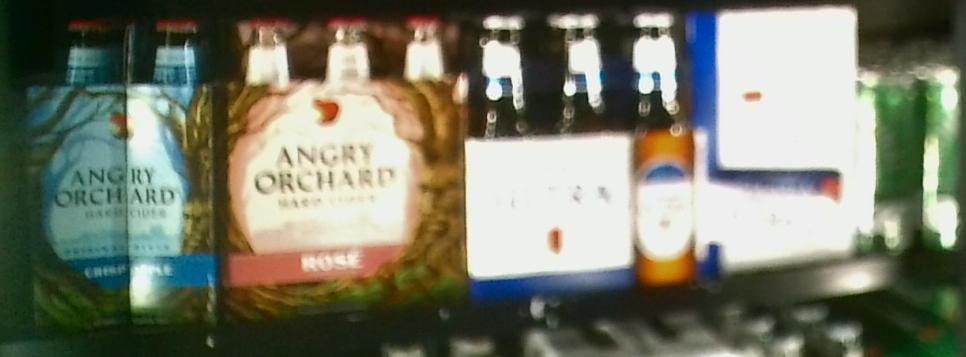bottle: (216, 16, 465, 316), (468, 13, 697, 286), (29, 14, 215, 329), (699, 6, 862, 271)
